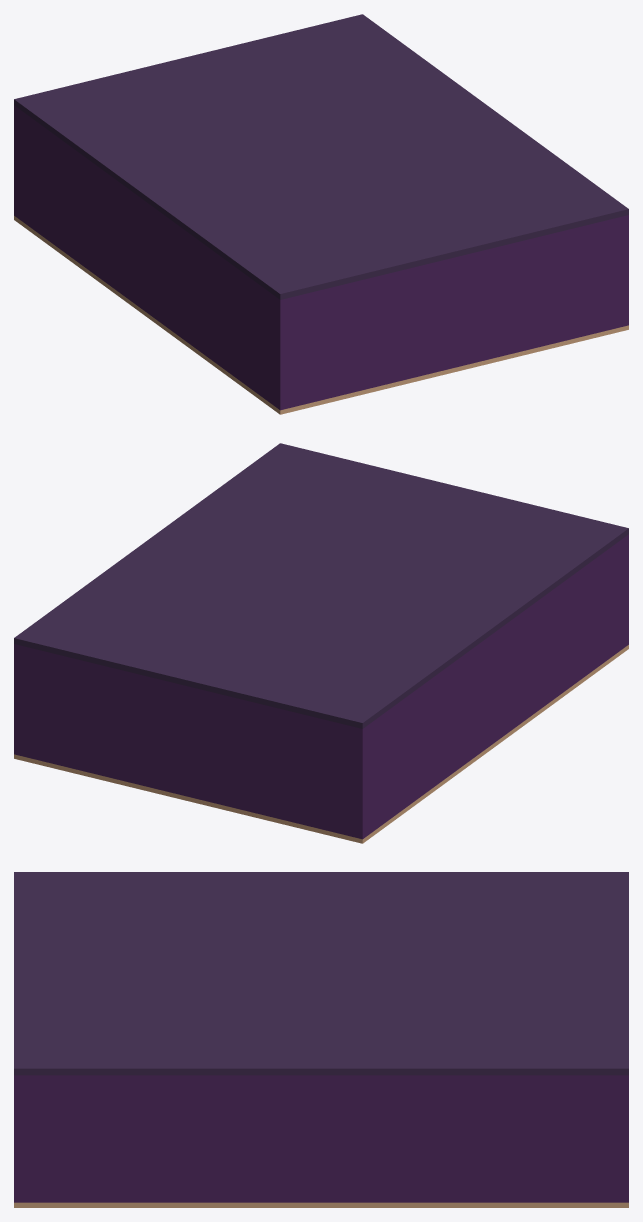
File: pc_hall.glb
The picture shows the model from 3 angles, top to bottom: view 1: azimuth 30°, elevation 25°; view 2: azimuth 150°, elevation 25°; view 3: azimuth 270°, elevation 25°; orthographic projection. The views are drawn at different scales.
Parts seen in each view (by area): view 1: pc_hall; view 2: pc_hall; view 3: pc_hall.
Boxes of the visible parts, <box> form: pc_hall: <box>14,14,628,414</box>; pc_hall: <box>14,443,628,843</box>; pc_hall: <box>14,872,628,1207</box>.
Size of the model in its own units: 24.8 by 8.2 by 32.8.
